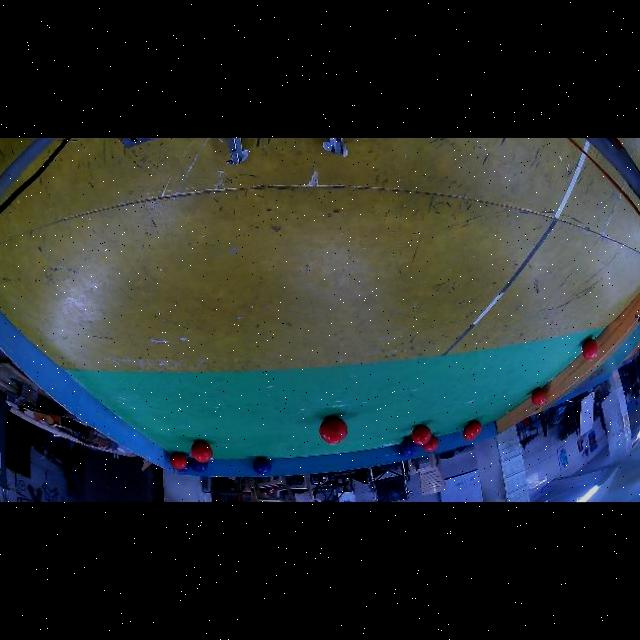P: (252, 457, 271, 474), (402, 437, 418, 453), (190, 459, 208, 473), (399, 446, 413, 458), (178, 462, 190, 472)
R: (319, 416, 347, 444), (190, 440, 212, 463), (412, 425, 432, 445), (582, 339, 598, 361), (170, 452, 188, 469), (422, 436, 438, 452), (466, 420, 482, 436), (531, 388, 545, 406), (463, 427, 475, 440)
